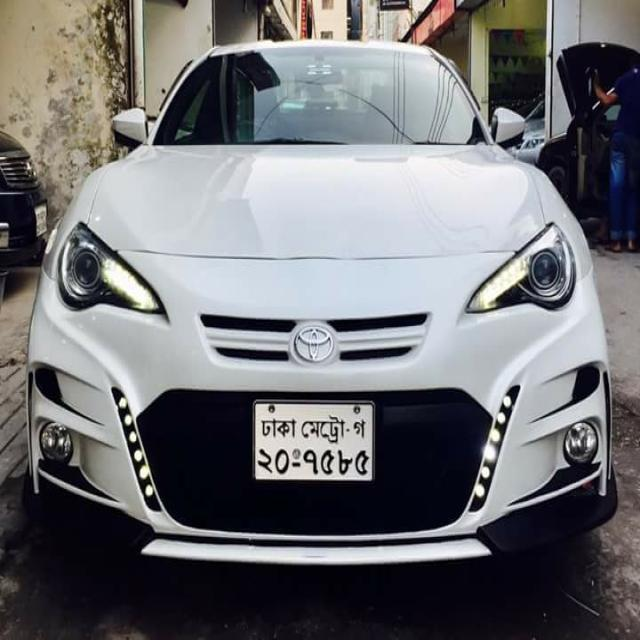numberplate: (252, 398, 375, 483)
